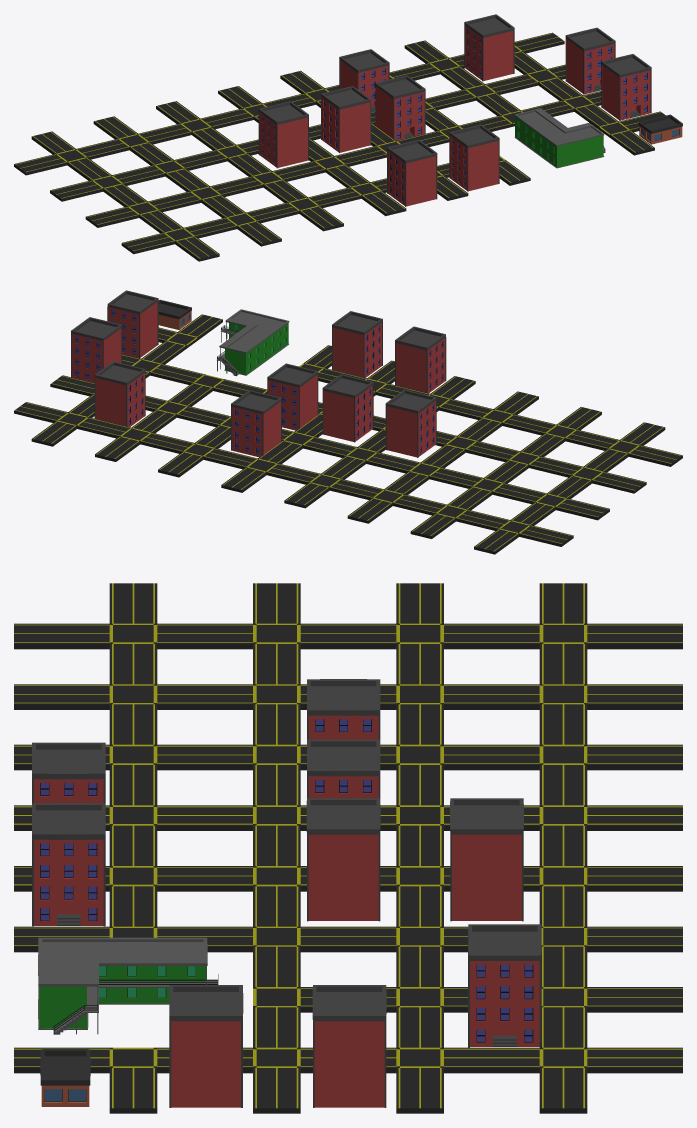
File: mati.fbx
The picture shows the model from 3 angles, top to bottom: view 1: azimuth 30°, elevation 25°; view 2: azimuth 150°, elevation 25°; view 3: azimuth 270°, elevation 25°; orthographic projection. The views are drawn at different scales.
Visible parts, largest first — view 1: Road.094, Building 3, Building 2.006, Building 2, Building 2.008, Building 2.004, Building 2.005, Building 2.007, Building 2.003, Building 2.001, Building 2.002, 主人公宅; view 2: Road.094, Building 3, Building 2.006, Building 2.007, Building 2.005, Building 2.008, Building 2.004, Building 2.002, Building 2.001, Building 2, Building 2.003, 主人公宅; view 3: Road.094, Building 3, Building 2.003, Building 2.001, Building 2, Building 2.002, Building 2.004, Building 2.008, Building 2.005, Building 2.006, Building 2.007, 主人公宅.
Part boxes in pixels (x1,y1,x2,y2): Road.094: [14, 32, 665, 261]; Building 3: [514, 108, 605, 168]; Building 2.006: [258, 101, 308, 168]; Building 2: [601, 54, 651, 120]; Building 2.008: [464, 14, 514, 81]; Building 2.004: [449, 124, 499, 191]; Building 2.005: [387, 139, 437, 206]; Building 2.007: [321, 86, 371, 152]; Building 2.003: [375, 75, 425, 140]; Building 2.001: [565, 27, 615, 94]; Building 2.002: [339, 49, 389, 111]; 主人公宅: [638, 114, 682, 144]; Road.094: [14, 314, 682, 554]; Building 3: [217, 309, 289, 376]; Building 2.006: [385, 389, 436, 457]; Building 2.007: [322, 374, 373, 442]; Building 2.005: [395, 326, 446, 393]; Building 2.008: [94, 361, 145, 426]; Building 2.004: [332, 311, 382, 377]; Building 2.002: [231, 390, 281, 456]; Building 2.001: [71, 317, 121, 382]; Building 2: [107, 290, 158, 358]; Building 2.003: [267, 363, 318, 430]; 主人公宅: [158, 299, 191, 330]; Road.094: [14, 583, 682, 1113]; Building 3: [38, 937, 218, 1034]; Building 2.003: [306, 798, 380, 921]; Building 2.001: [312, 985, 386, 1107]; Building 2: [169, 985, 243, 1107]; Building 2.002: [450, 798, 523, 921]; Building 2.004: [32, 803, 105, 926]; Building 2.008: [468, 924, 541, 1047]; Building 2.005: [32, 742, 105, 803]; Building 2.006: [307, 679, 380, 739]; Building 2.007: [307, 739, 380, 798]; 主人公宅: [40, 1049, 90, 1106].
Size of what is drawn, in the model's own units: 20800 by 1800 by 11200.
